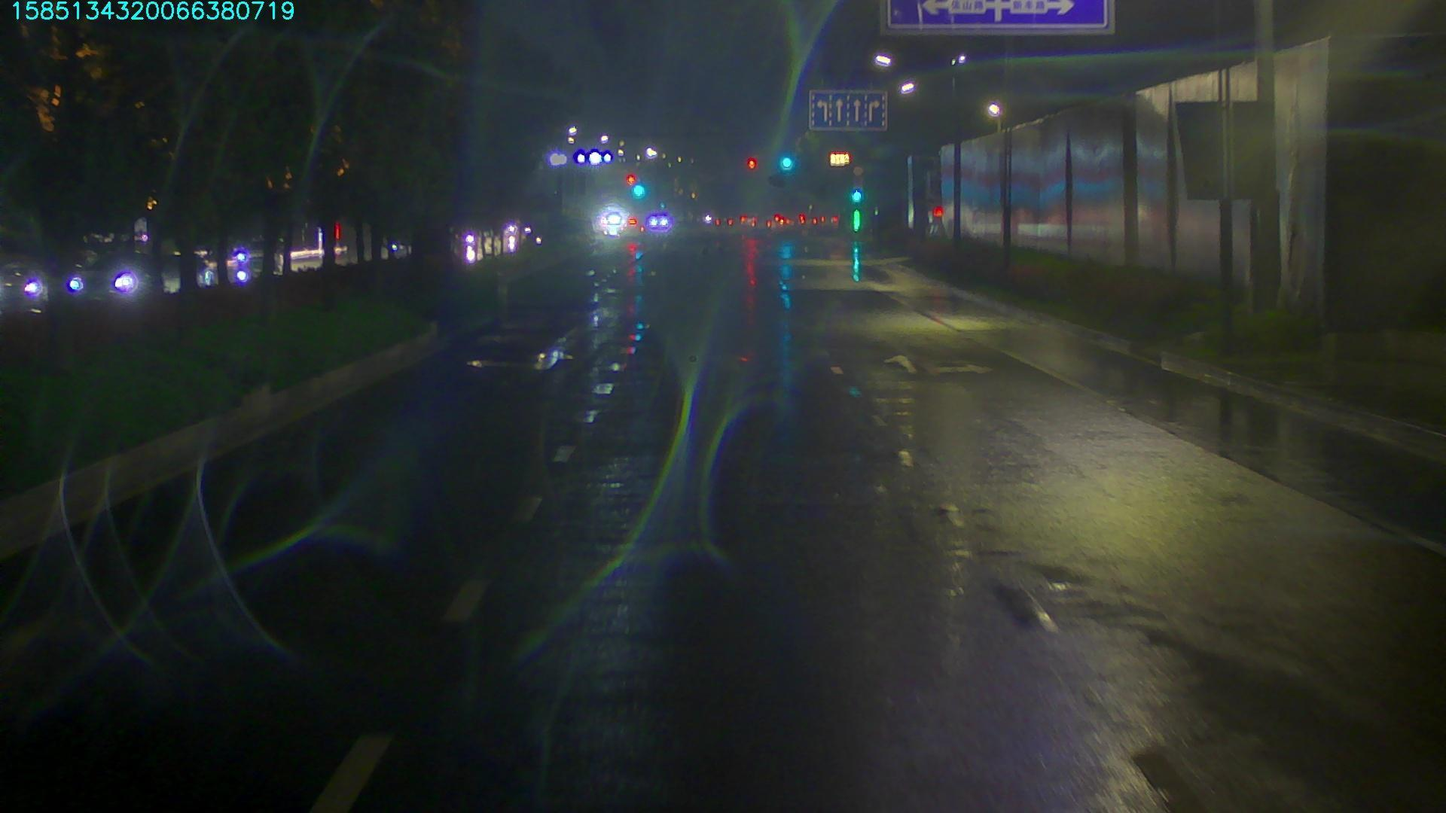green: (777, 146, 798, 169)
red: (740, 147, 761, 171)
